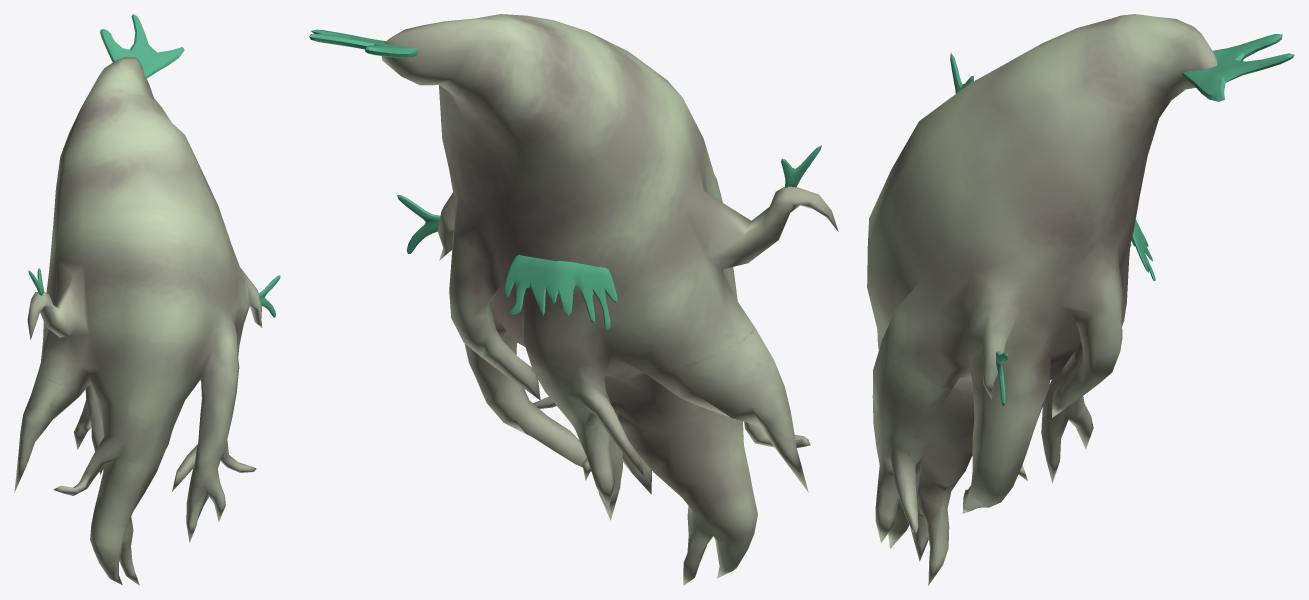
The model's file is BitterRoot.fbx.
3 renders of one model, left to right at view 1: azimuth 30°, elevation 25°; view 2: azimuth 150°, elevation 25°; view 3: azimuth 270°, elevation 25°, orthographic. The views are drawn at different scales.
Parts seen in each view (by area): view 1: pPlane61; view 2: pPlane61; view 3: pPlane61.
Boxes of the visible parts, x1,y1,x2,y2 form: pPlane61: (14,14,280,585); pPlane61: (309,14,838,585); pPlane61: (867,14,1294,585).
Bounding box in the file's own units: 188 × 288 × 181.
